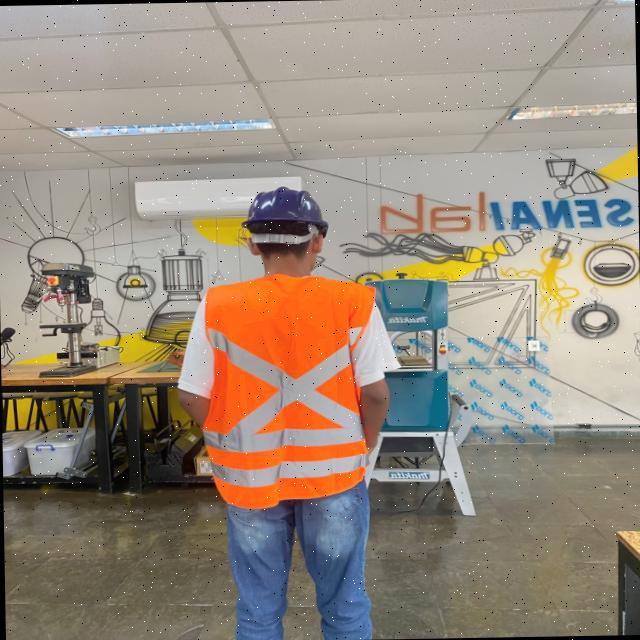CAPACETE: (240, 186, 335, 243)
COLETE: (197, 274, 380, 506)
